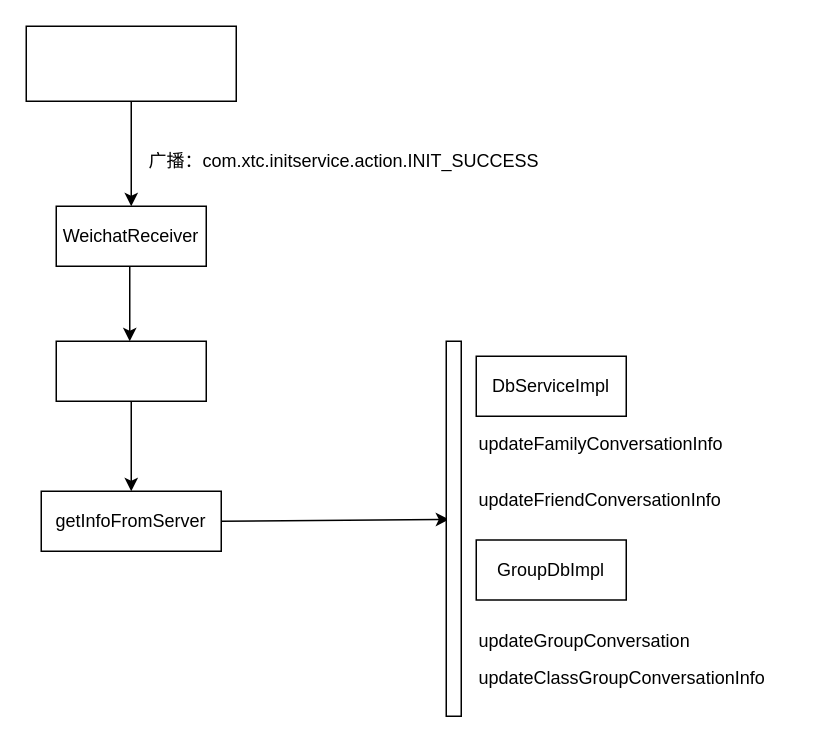
Some shapes in this 818 by 743 pixel diagram are drawn without their labels. The centre of each missing label's shape, as x and y in pixels:
"AccountServiceImpl" goes at (x=130, y=63).
"InitService" goes at (x=130, y=370).
